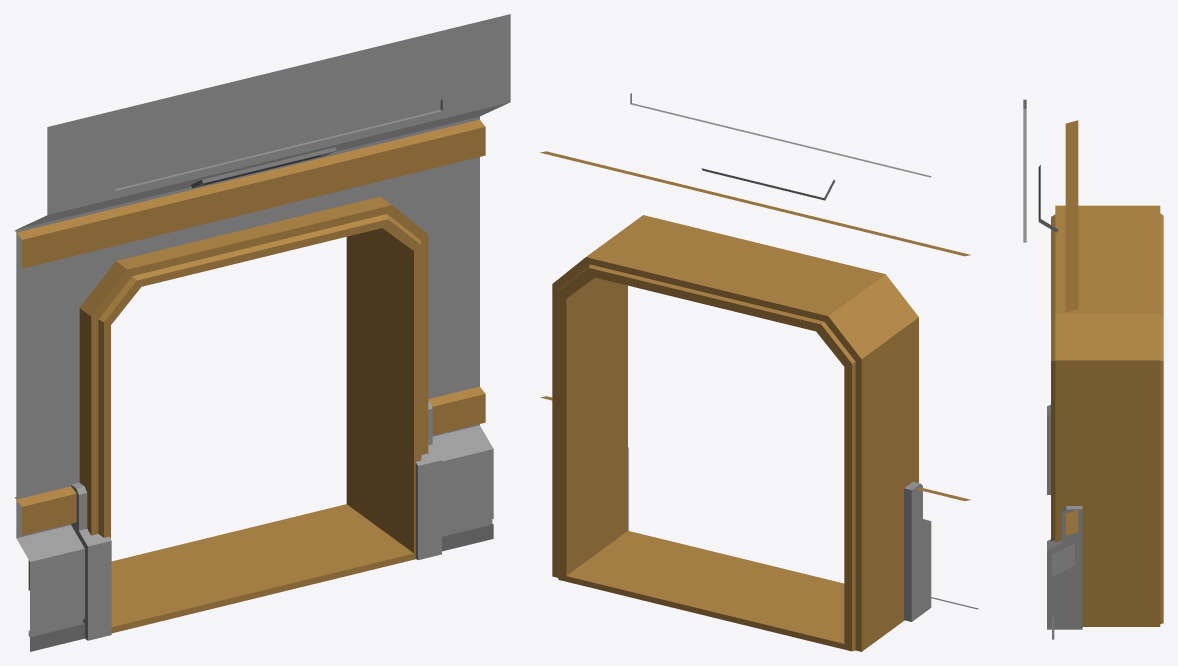
Rendered from DoorDouble_Wall_SideA.glb.
The picture shows the model from 3 angles, left to right: view 1: azimuth 30°, elevation 25°; view 2: azimuth 150°, elevation 25°; view 3: azimuth 270°, elevation 25°; orthographic projection. The views are drawn at different scales.
Parts seen in each view (by area): view 1: DoorDouble_Wall_SideA_Plane.312; view 2: DoorDouble_Wall_SideA_Plane.312; view 3: DoorDouble_Wall_SideA_Plane.312.
Boxes of the visible parts, x1,y1,x2,y2 form: DoorDouble_Wall_SideA_Plane.312: (14, 14, 510, 651); DoorDouble_Wall_SideA_Plane.312: (540, 93, 978, 651); DoorDouble_Wall_SideA_Plane.312: (1023, 99, 1163, 639).
Size of the model in its own units: 4 by 4.44 by 1.25.
